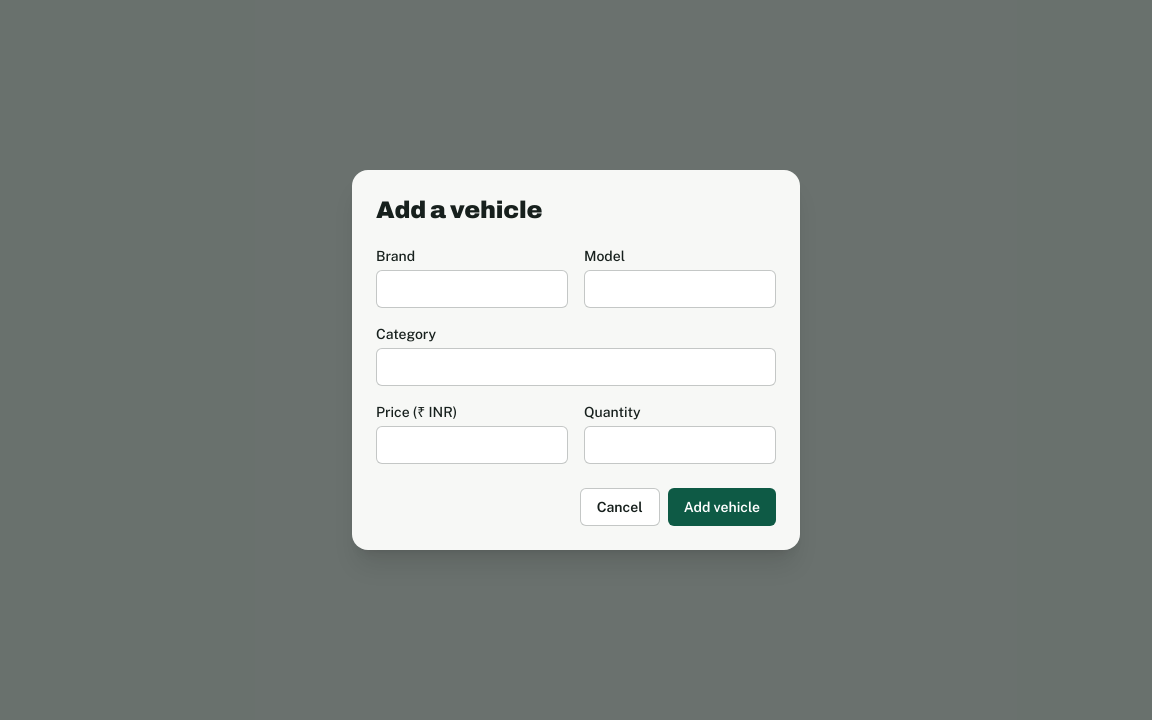
Test: <VehicleFormModal /> › blocks submit and shows an error for invalid numbers
Type "Kia" into the field labelled "Brand". click: (472, 289)
box: top-left (376, 270), bottom-right (568, 308)
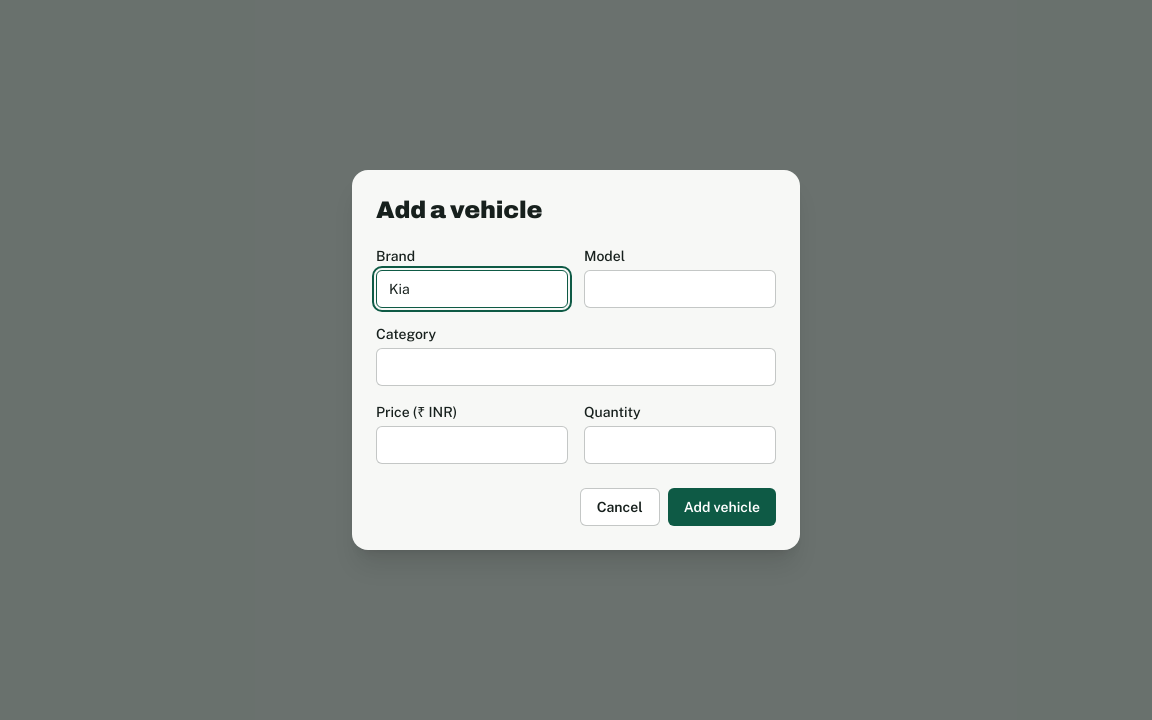
Type "EV6" into the field labelled "Model". click: (680, 289)
box: top-left (584, 270), bottom-right (776, 308)
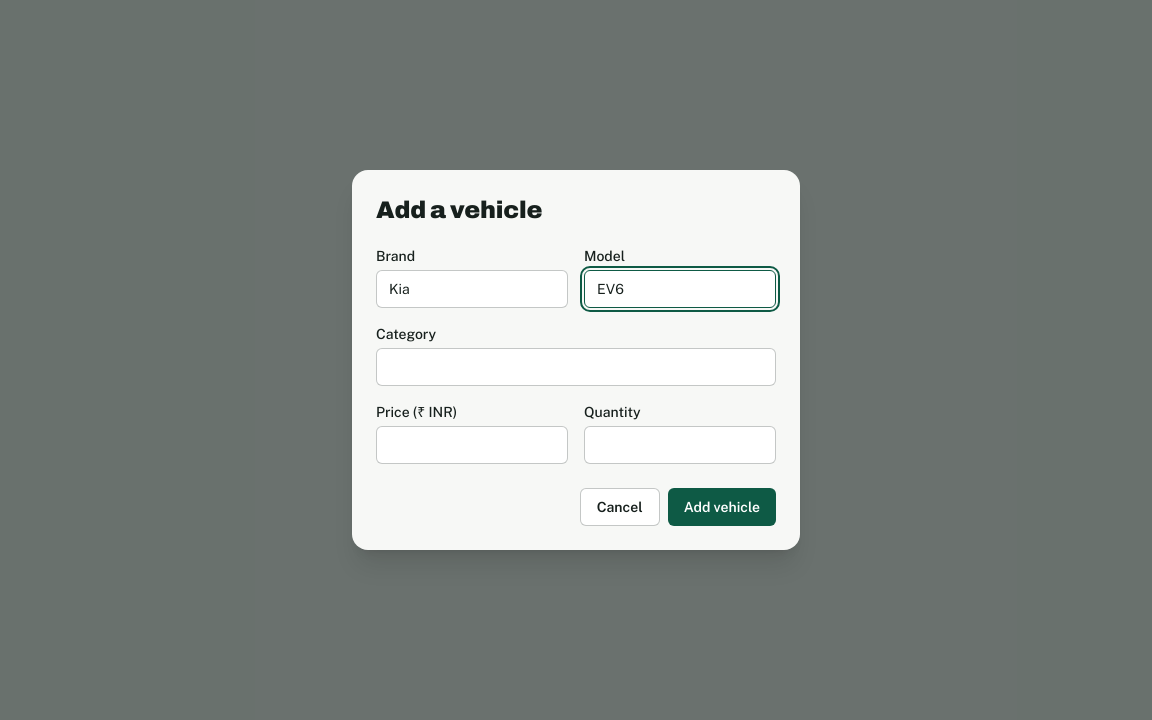
Type "Electric" into the field labelled "Category". click: (576, 367)
box: top-left (376, 348), bottom-right (776, 386)
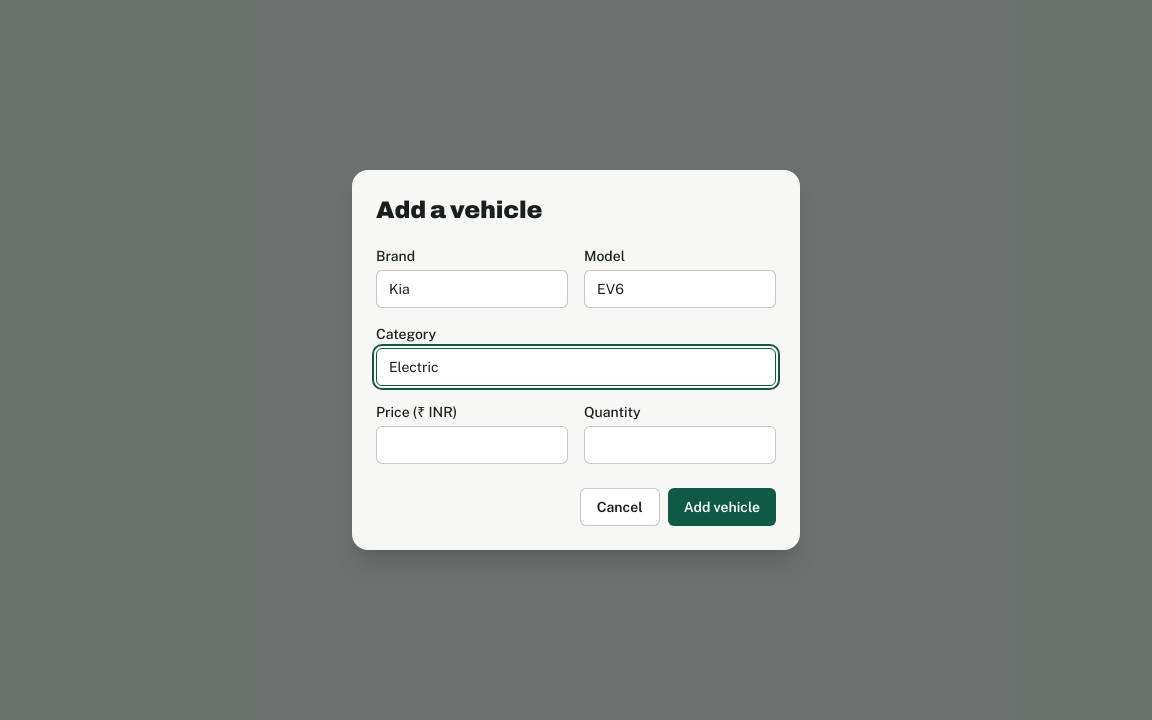
Type "-5" into the number field labelled "Price (₹ INR)". click: (472, 445)
box: top-left (376, 426), bottom-right (568, 464)
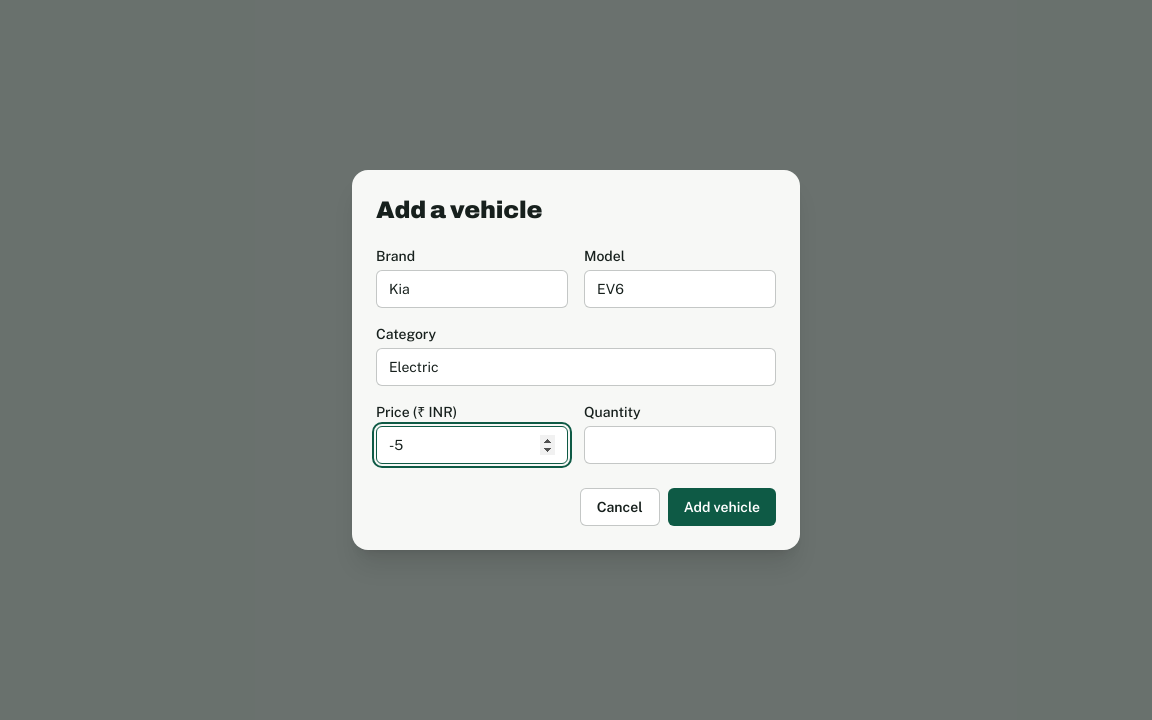
Type "2" into the number field labelled "Quantity". click: (680, 445)
box: top-left (584, 426), bottom-right (776, 464)
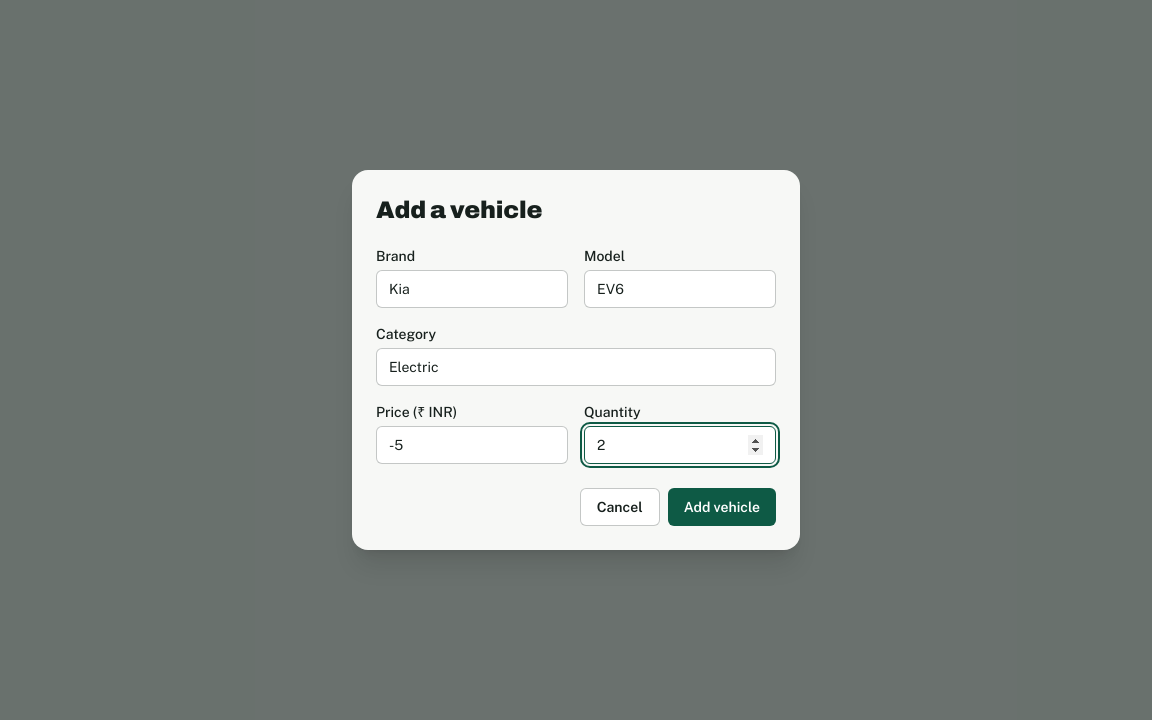
Click the button "Add vehicle". click: (722, 507)
box: top-left (668, 488), bottom-right (776, 526)
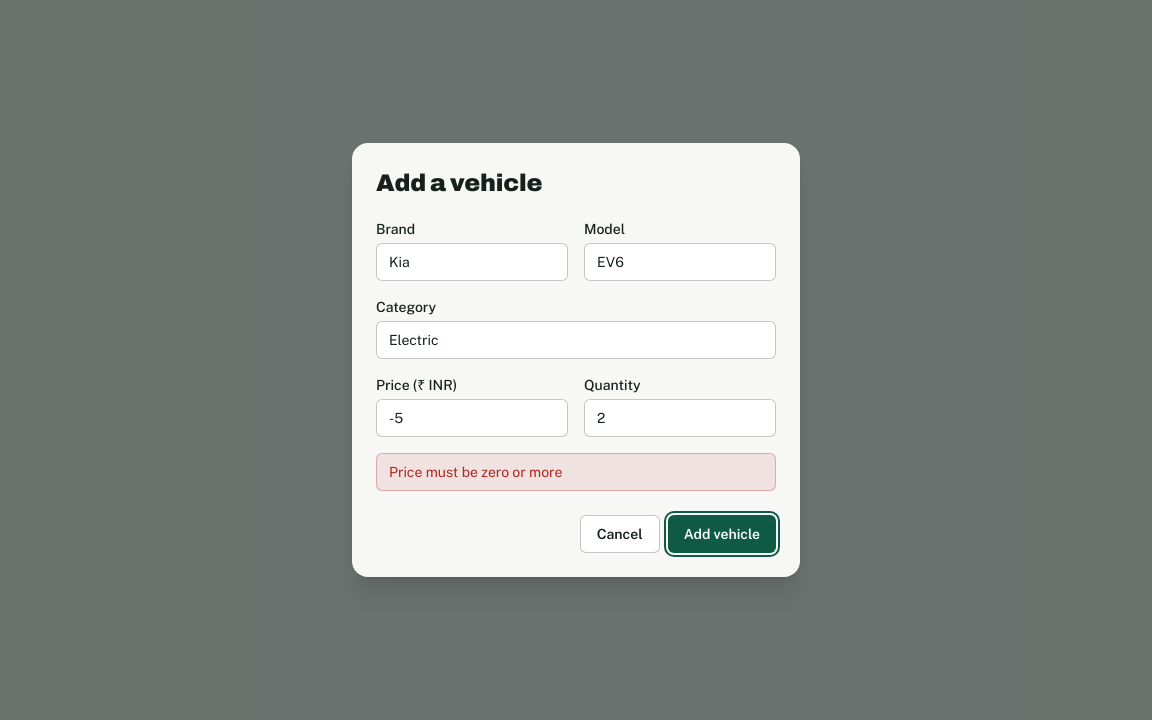
Now the message shows "Price", box top-left (389, 464), bottom-right (562, 480)
